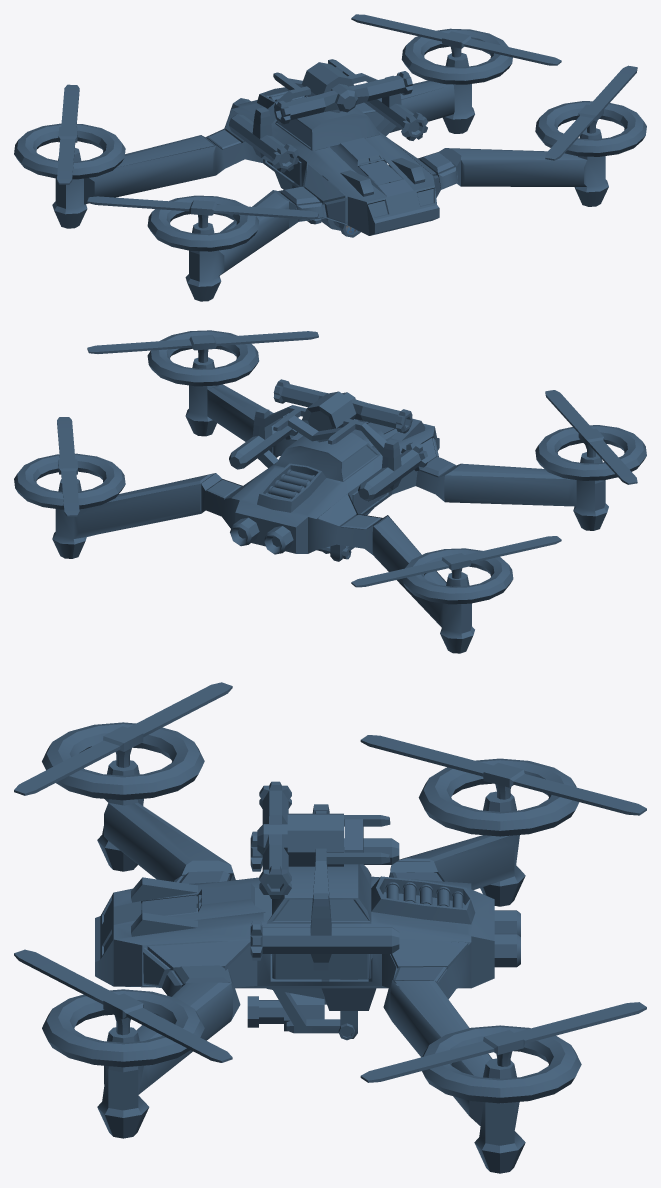
The picture shows the model from 3 angles, top to bottom: view 1: azimuth 30°, elevation 25°; view 2: azimuth 150°, elevation 25°; view 3: azimuth 270°, elevation 25°; orthographic projection. The views are drawn at different scales.
Parts seen in each view (by area): view 1: drone_costum:Mesh; view 2: drone_costum:Mesh; view 3: drone_costum:Mesh.
Part boxes in pixels (left/top/right/bottom): drone_costum:Mesh: left=14, top=14, right=646, bottom=301; drone_costum:Mesh: left=14, top=330, right=646, bottom=653; drone_costum:Mesh: left=14, top=682, right=646, bottom=1173.
Bounding box in the file's own units: 6.2 × 1.68 × 4.38.
1 material, 1 textured.
